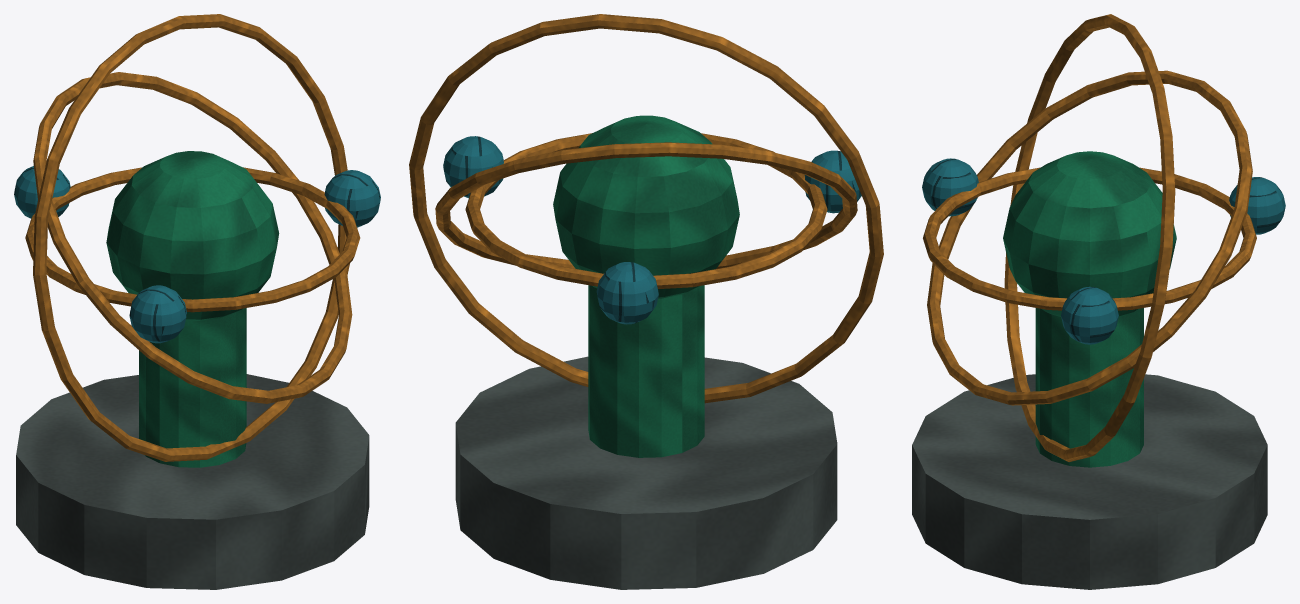
The model's file is jade_orrery.glb.
3 renders of one model, left to right at view 1: azimuth 30°, elevation 25°; view 2: azimuth 150°, elevation 25°; view 3: azimuth 270°, elevation 25°, orthographic. The views are drawn at different scales.
Parts seen in each view (by area): view 1: jade_orrery_Stone, jade_orrery_Jade, jade_orrery_Brass, jade_orrery_Ceramic; view 2: jade_orrery_Stone, jade_orrery_Jade, jade_orrery_Brass, jade_orrery_Ceramic; view 3: jade_orrery_Stone, jade_orrery_Jade, jade_orrery_Brass, jade_orrery_Ceramic.
Boxes of the visible parts, box(x1,y1,x2,y2) form: jade_orrery_Stone: box(16, 374, 369, 589); jade_orrery_Jade: box(106, 151, 279, 467); jade_orrery_Brass: box(25, 14, 360, 461); jade_orrery_Ceramic: box(14, 166, 380, 343); jade_orrery_Stone: box(455, 356, 837, 589); jade_orrery_Jade: box(553, 115, 739, 457); jade_orrery_Brass: box(409, 14, 883, 403); jade_orrery_Ceramic: box(443, 136, 861, 324); jade_orrery_Stone: box(912, 374, 1267, 589); jade_orrery_Jade: box(1003, 151, 1176, 467); jade_orrery_Brass: box(923, 14, 1256, 461); jade_orrery_Ceramic: box(922, 158, 1285, 344).
Bounding box in the file's own units: 2.23 × 2.71 × 1.93.
Materials: 4 (4 with a texture image).
